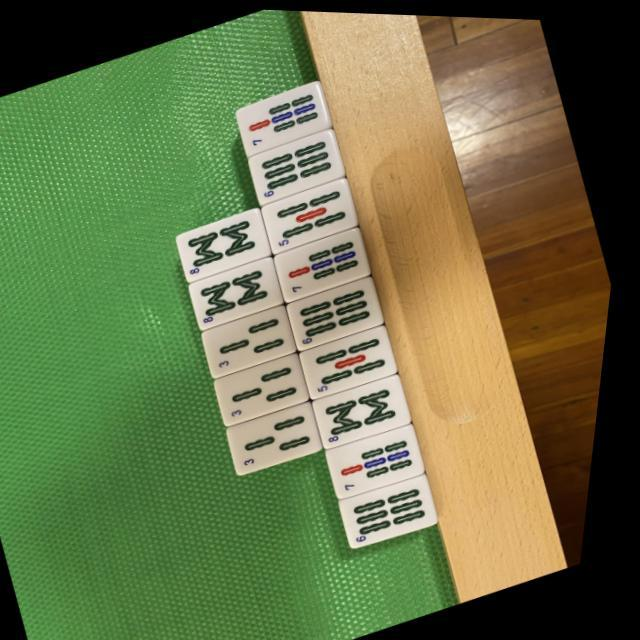sb3: (218, 347, 322, 427), (234, 396, 336, 475), (205, 301, 307, 378)
sb5: (262, 174, 366, 252), (304, 320, 408, 398)
sb6: (346, 468, 454, 550), (290, 270, 395, 350), (248, 124, 352, 203)
sb7: (332, 418, 439, 500), (276, 222, 381, 301), (235, 77, 338, 153)
sb8: (318, 368, 424, 448), (178, 204, 280, 282), (192, 253, 292, 330)
